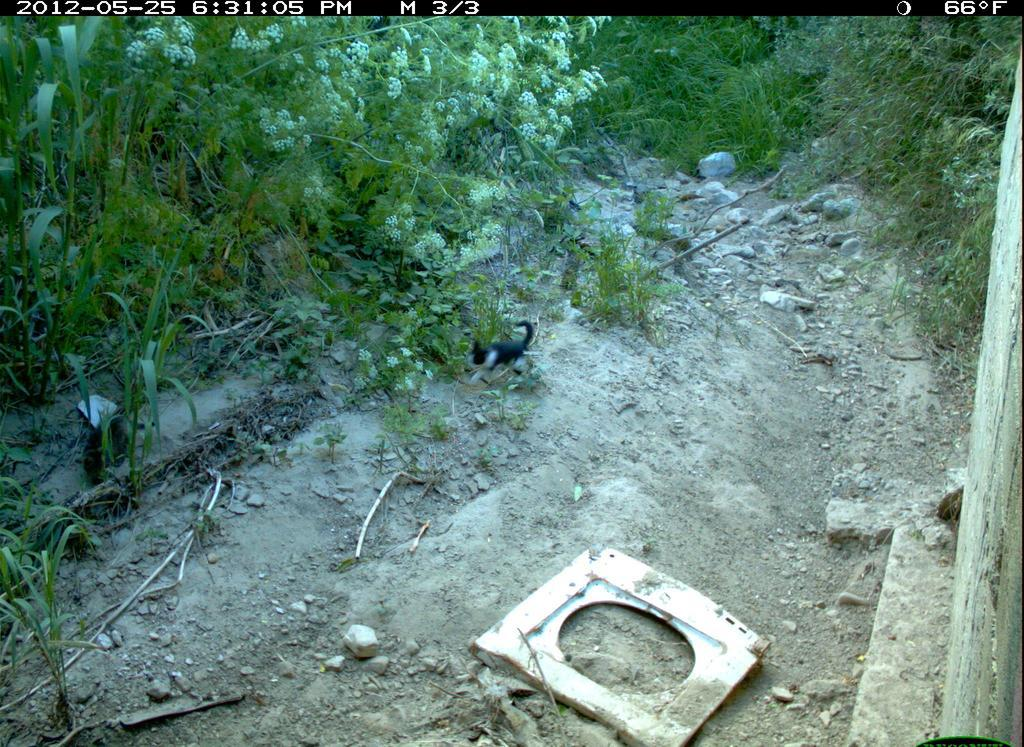cat: (461, 319, 547, 387)
